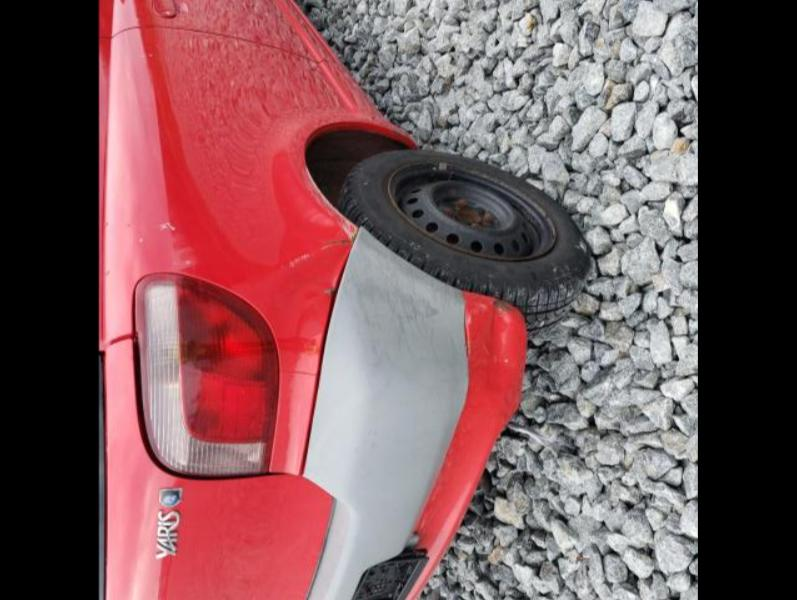Corrosion: (456, 200, 496, 226), (314, 236, 352, 255), (492, 296, 516, 314), (492, 298, 510, 314), (306, 340, 322, 358), (322, 286, 334, 298)
Dent: (464, 294, 524, 372), (466, 294, 524, 364), (158, 220, 180, 231)
Missing part: (354, 558, 426, 600)
Scratch: (346, 228, 462, 371), (304, 166, 360, 246), (282, 234, 354, 272)
